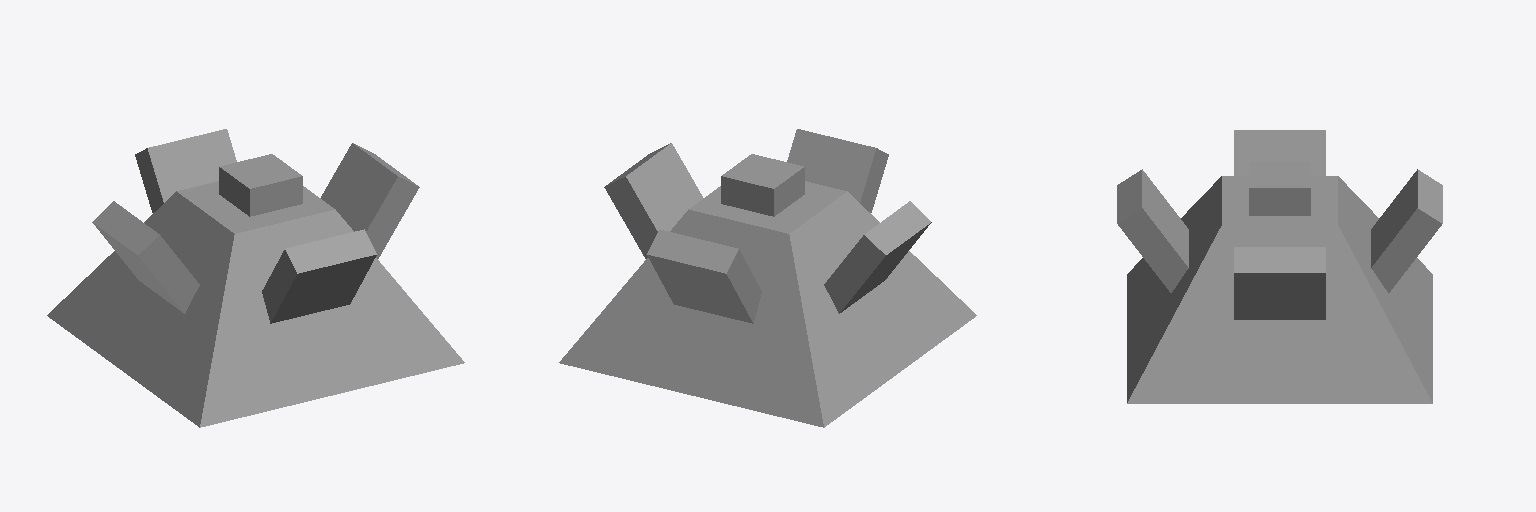
File: nodeManipulator.obj
The picture shows the model from 3 angles: view 1: azimuth 30°, elevation 25°; view 2: azimuth 150°, elevation 25°; view 3: azimuth 270°, elevation 25°; orthographic projection.
Visible parts, largest first — view 1: base_Cube.001, handle_3_Cube.002, handle_0_Cube.002, handle_1_Cube.002, handle_2_Cube.002, foci_Cube.003; view 2: base_Cube.001, handle_2_Cube.002, handle_0_Cube.002, handle_1_Cube.002, handle_3_Cube.002, foci_Cube.003; view 3: base_Cube.001, handle_0_Cube.002, handle_2_Cube.002, handle_3_Cube.002, handle_1_Cube.002, foci_Cube.003.
Part boxes in pixels (bbox=[...]): base_Cube.001: bbox=[47, 181, 464, 427]; handle_3_Cube.002: bbox=[262, 229, 376, 323]; handle_0_Cube.002: bbox=[321, 143, 419, 258]; handle_1_Cube.002: bbox=[92, 201, 199, 313]; handle_2_Cube.002: bbox=[135, 129, 236, 212]; foci_Cube.003: bbox=[219, 154, 302, 216]; base_Cube.001: bbox=[559, 181, 976, 427]; handle_2_Cube.002: bbox=[647, 229, 761, 323]; handle_0_Cube.002: bbox=[604, 143, 702, 258]; handle_1_Cube.002: bbox=[824, 201, 931, 313]; handle_3_Cube.002: bbox=[787, 129, 888, 212]; foci_Cube.003: bbox=[721, 154, 804, 216]; base_Cube.001: bbox=[1127, 176, 1432, 403]; handle_0_Cube.002: bbox=[1234, 247, 1325, 319]; handle_2_Cube.002: bbox=[1371, 169, 1442, 292]; handle_3_Cube.002: bbox=[1117, 169, 1188, 292]; handle_1_Cube.002: bbox=[1234, 130, 1325, 175]; foci_Cube.003: bbox=[1249, 162, 1310, 215].
Size of the model in its own units: 2.12 by 1.2 by 2.12.